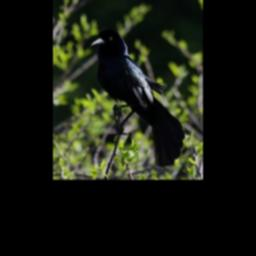Crow: (90, 26, 184, 166)
